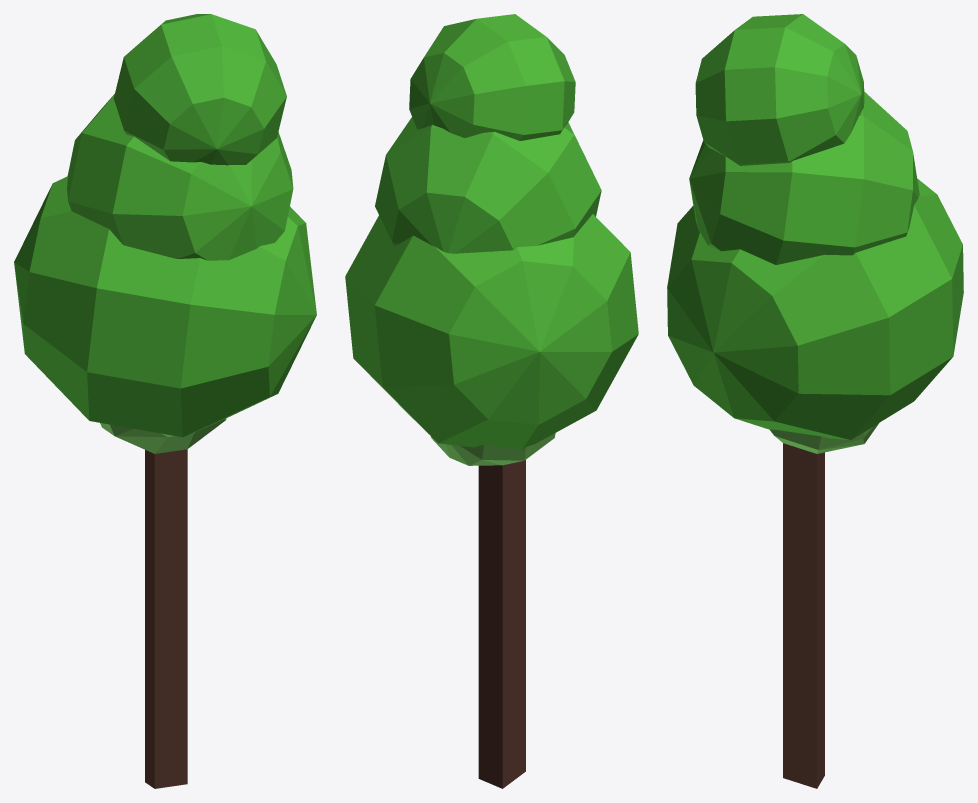
Rendered from tree_3_2_world_ap_0_lev1.glb.
3 views of the same model, side by side, from view 1: azimuth 30°, elevation 25°; view 2: azimuth 150°, elevation 25°; view 3: azimuth 270°, elevation 25° (orthographic). The views are drawn at different scales.
Visible parts, largest first — view 1: tree_3_2_world_ap_0_lev1; view 2: tree_3_2_world_ap_0_lev1; view 3: tree_3_2_world_ap_0_lev1.
Boxes of the visible parts, x1=… form: tree_3_2_world_ap_0_lev1: x1=14, y1=14, x2=316, y2=788; tree_3_2_world_ap_0_lev1: x1=345, y1=14, x2=638, y2=788; tree_3_2_world_ap_0_lev1: x1=667, y1=14, x2=963, y2=788.
Size of the model in its own units: 0.7647 by 2.11 by 0.7372.
1 material, 1 textured.
